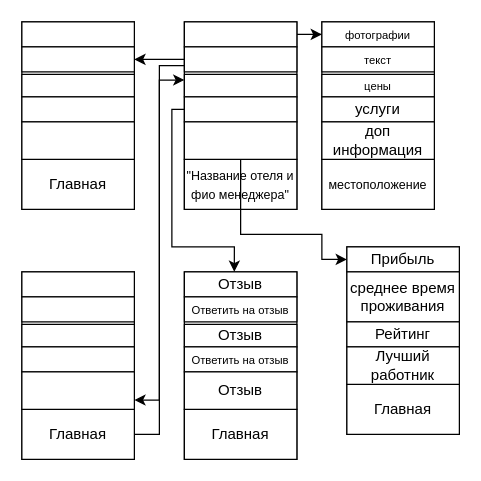
The diagram is 481 pixels wide and 481 high, and some of its shapes have lost their labels. Each missing label, with the centre of its shape:
"Брони" belongs at pixel 240 59.
"Изменение данных" belongs at pixel 240 34.
"Изменение цен" belongs at pixel 240 85.
"Отзывы" belongs at pixel 240 109.
"Статистика" belongs at pixel 240 140.
